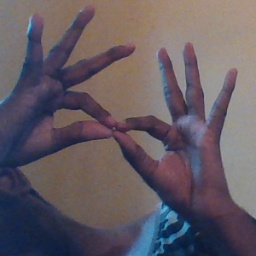B: (37, 53, 194, 186)
